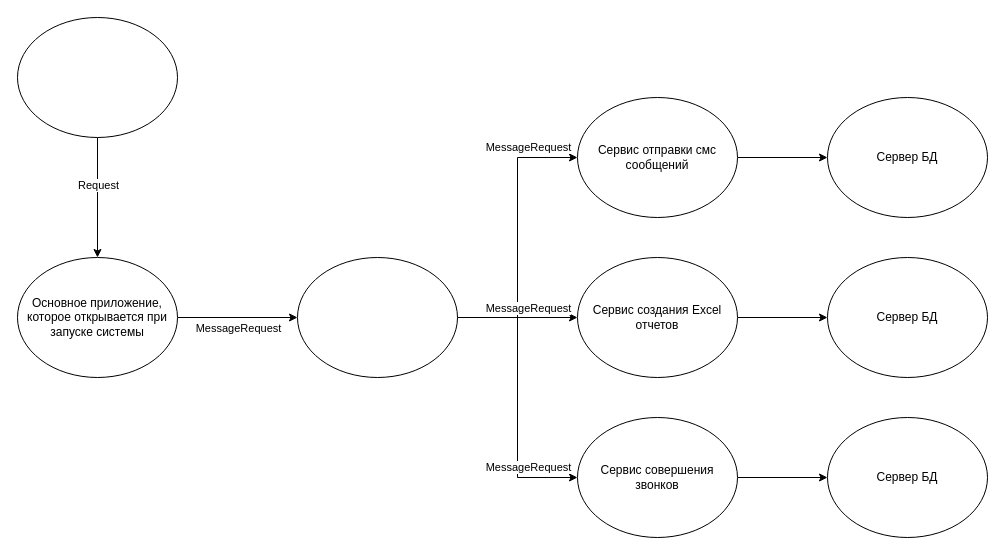
This 1005x555 diagram has some shape labels left out. Here are the shapes that lost their labels. From the top down, the box of each, then its label:
(16, 16, 178, 138): Фронт
(296, 256, 458, 378): RabbitMq
